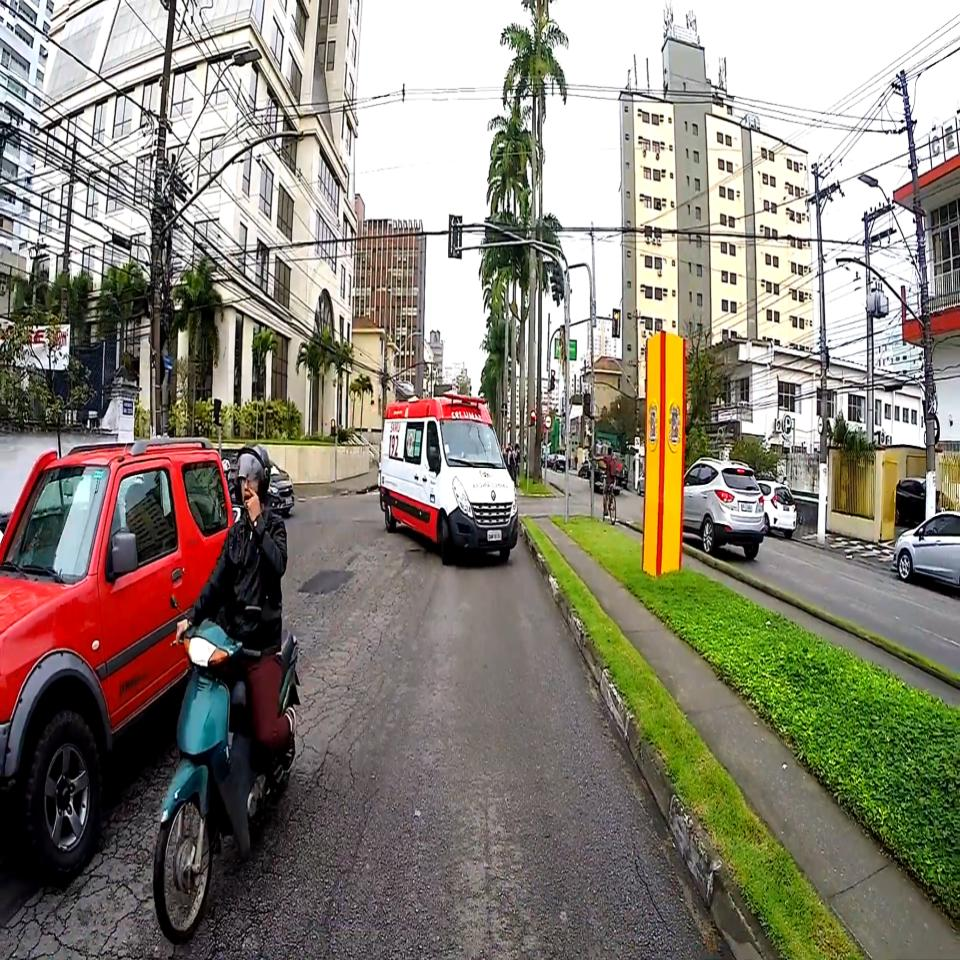bombeiro: (375, 383, 521, 572)
